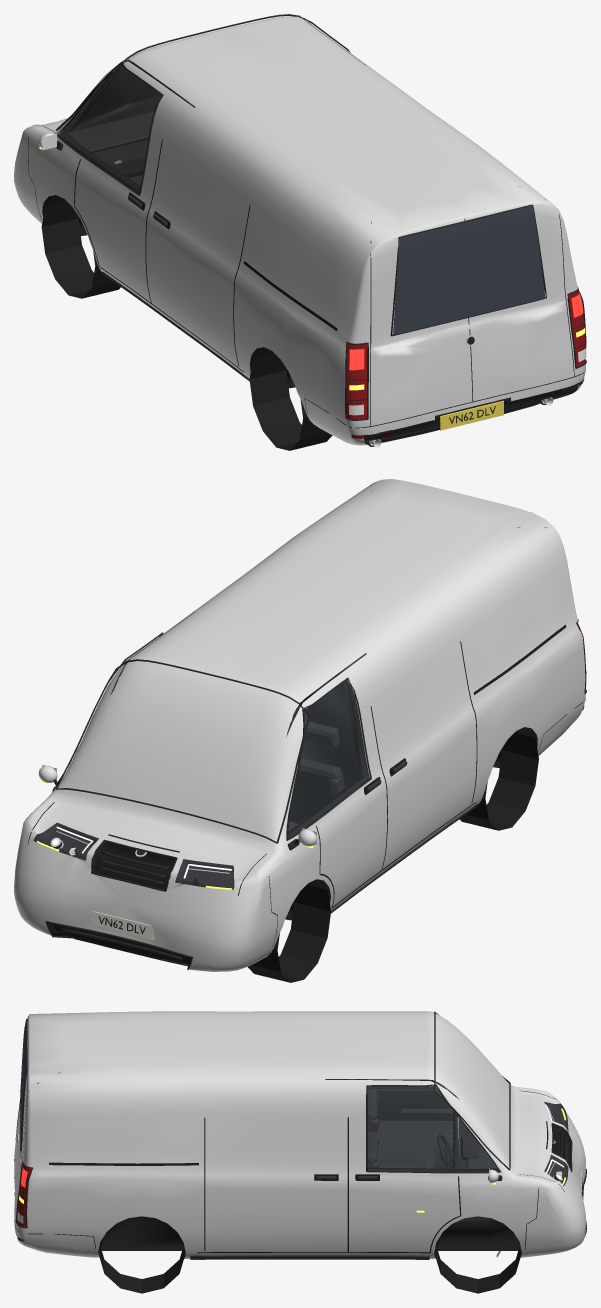
Rendered from civ_van.glb.
3 renders of one model, top to bottom at view 1: azimuth 30°, elevation 25°; view 2: azimuth 150°, elevation 25°; view 3: azimuth 270°, elevation 25°, orthographic. The views are drawn at different scales.
Parts seen in each view (by area): view 1: civ_van; view 2: civ_van; view 3: civ_van.
Boxes of the visible parts, x1,y1,x2,y2 form: civ_van: (14, 14, 586, 450); civ_van: (14, 479, 586, 982); civ_van: (14, 1011, 586, 1293).
Size of the model in its own units: 2.25 by 2 by 4.99.
